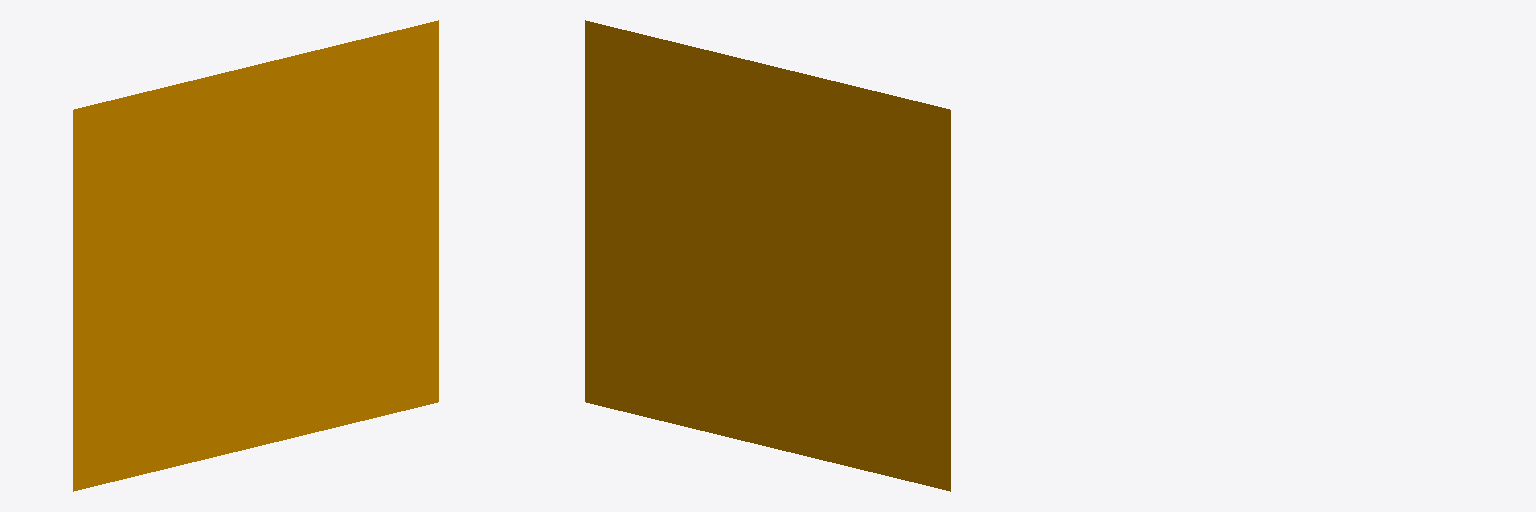
The robot description file, URDF, robot "plane":
<?xml version="1.0"?>
<robot name="plane">
    <link name="floor">
        <visual>
            <origin rpy="0 0 0" xyz="0 0 0"/>
            <geometry>
                <mesh filename="quad2.obj"/>
            </geometry>
        </visual>
        <collision>
            <origin rpy="0 0 0" xyz="0 0 0"/>
            <geometry>
                <mesh filename="quad2.obj"/>
            </geometry>
        </collision>

        <inertial>
          <mass value="0.0"/>
          <inertia ixx="0.0" ixy="0.0" ixz="0.0" iyy="0.0" iyz="0.0" izz="0.0"/>
        </inertial>
    </link>
</robot>

--- Render facts (derived) ---
Views: 3 orthographic renders of the robot side by side, from view 1: azimuth 30°, elevation 25°; view 2: azimuth 150°, elevation 25°; view 3: azimuth 270°, elevation 25°.
Model plane with 1 links and 0 joints (none), rooted at floor, posed all joints at 0.
Links seen in each view (by area): view 1: floor; view 2: floor; view 3: none.
Boxes of the visible links, x1,y1,x2,y2 form: floor: [73, 20, 438, 491]; floor: [585, 20, 950, 491].
Bounding box of the posed robot: 2 × 0 × 2 m (x, y, z).
Meshes: 1 distinct files referenced, 1 mesh visuals loaded (1 OBJ).